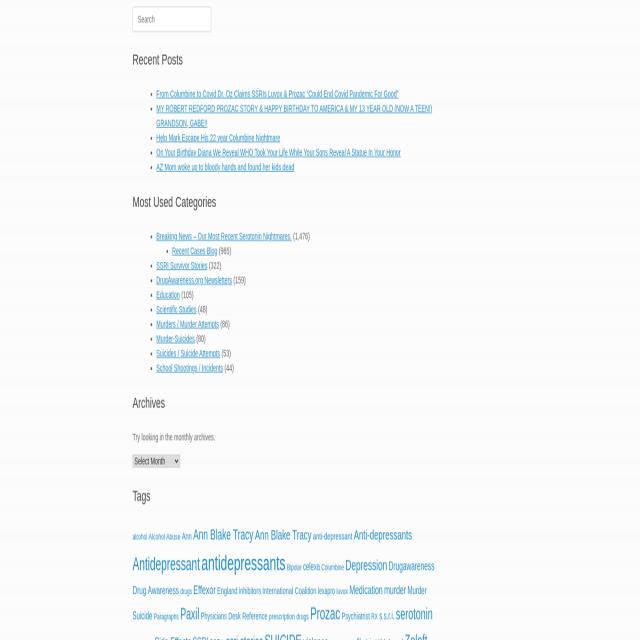field: (132, 8, 212, 32), (132, 454, 180, 468)
